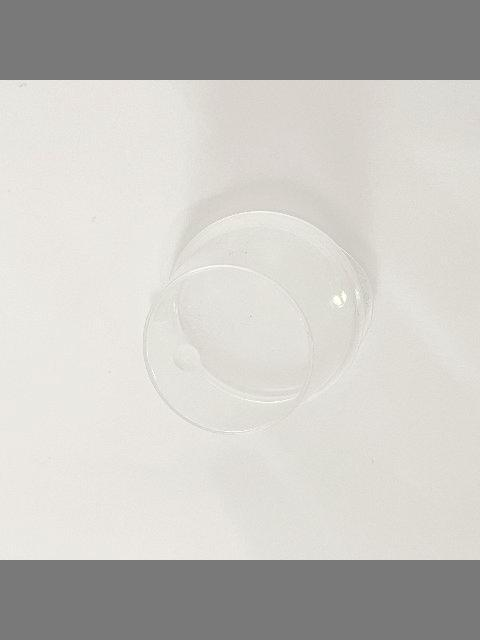plasticcontainer: (138, 209, 376, 437)
